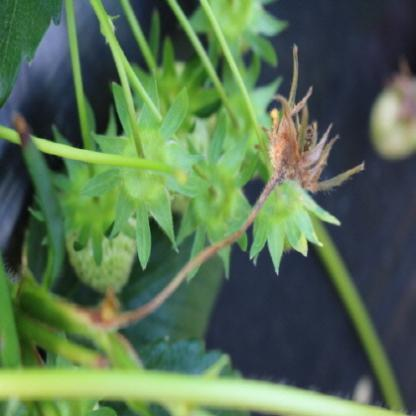Strawberry_Gray_Mold: (262, 43, 365, 193)
